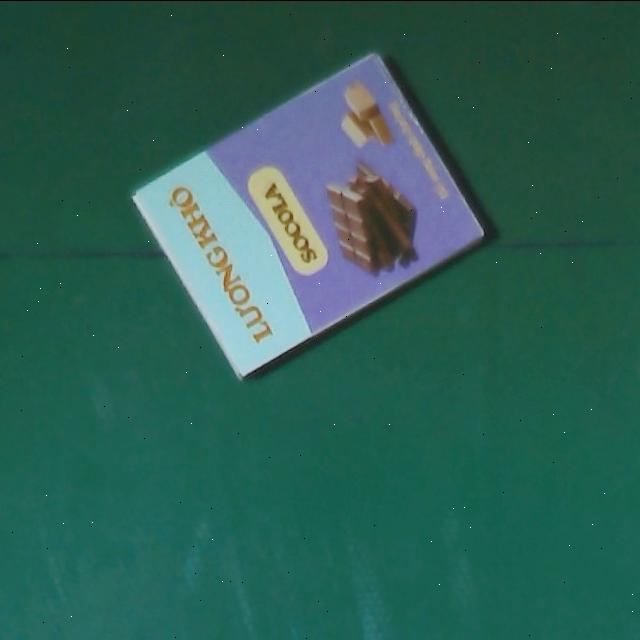socola: (130, 47, 489, 382)
